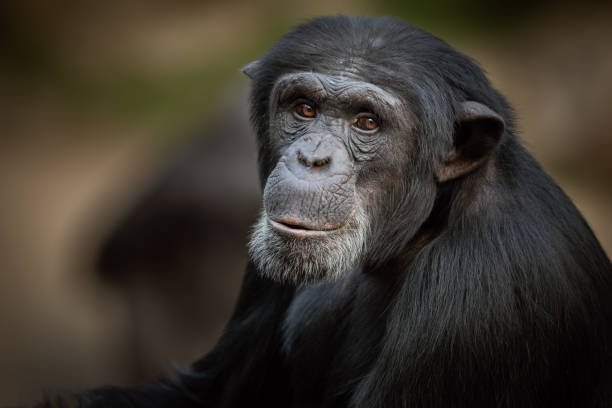chimpanzee: (199, 7, 508, 293)
